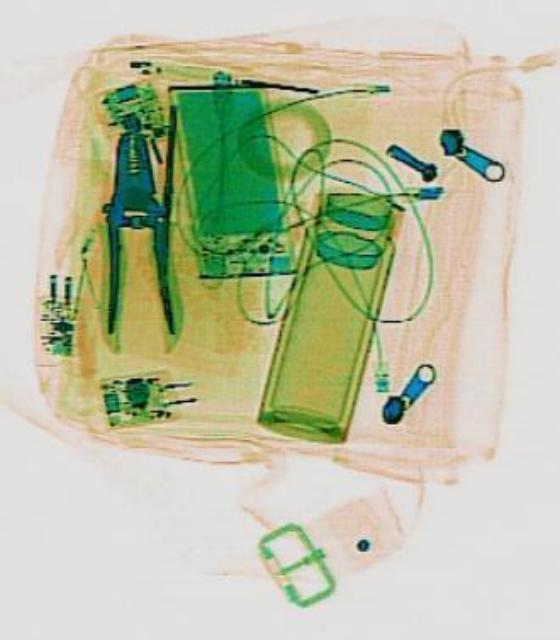Pliers: (98, 128, 171, 334)
